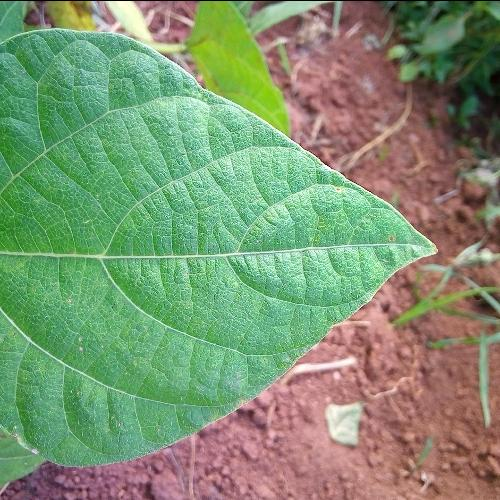sehat: (5, 151, 292, 354)
